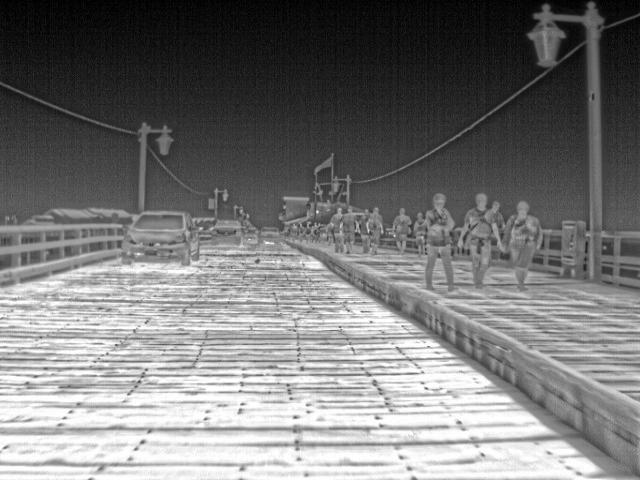car: (118, 207, 199, 265), (192, 212, 219, 244), (213, 218, 242, 244), (257, 223, 280, 241)
person: (499, 198, 545, 290), (419, 191, 459, 289), (460, 190, 499, 290), (388, 206, 414, 253), (326, 205, 346, 255), (364, 208, 384, 250), (340, 205, 357, 253), (414, 211, 430, 254), (488, 200, 507, 228), (300, 221, 313, 244), (287, 221, 300, 243), (310, 221, 322, 243)
